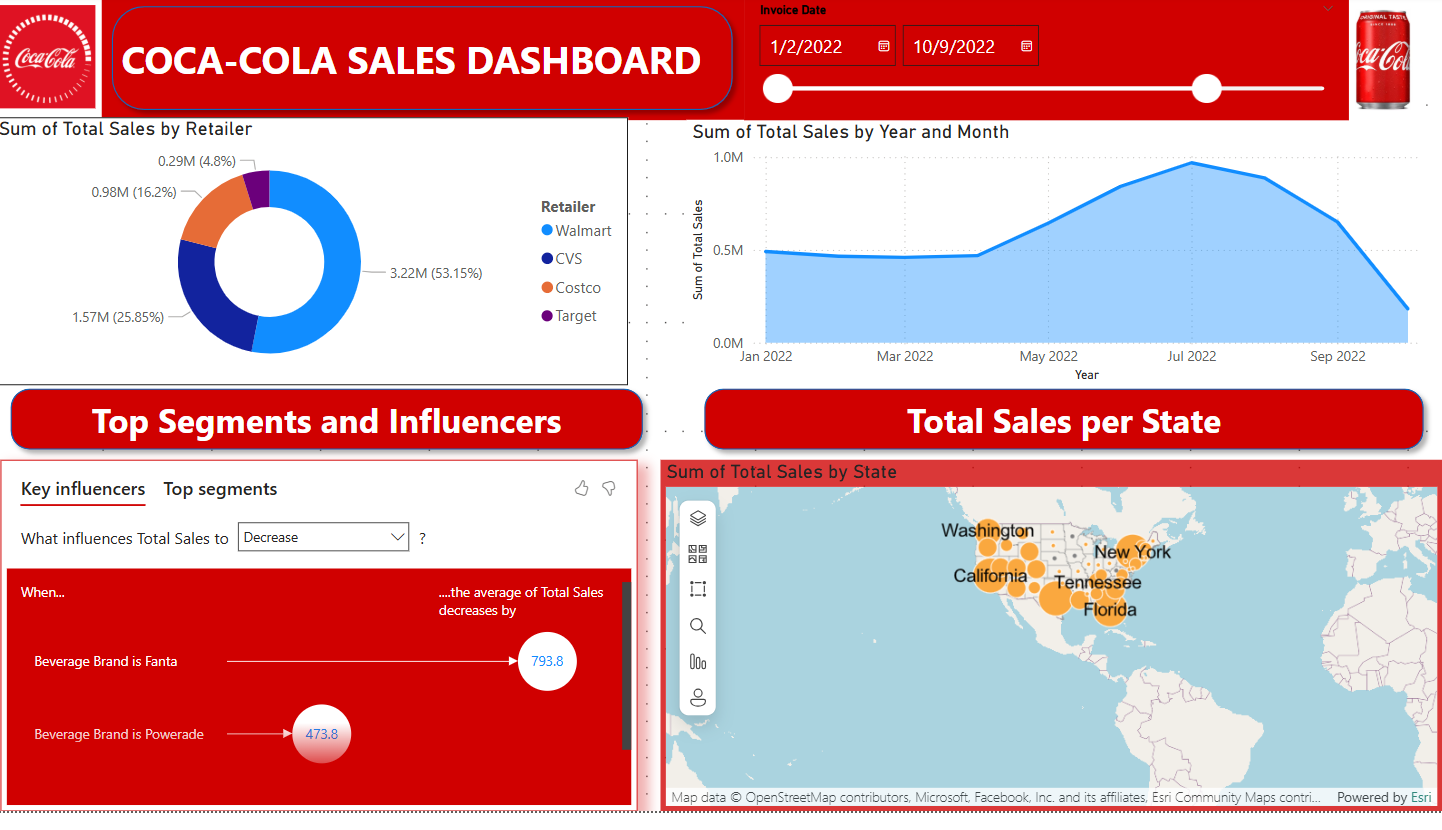

Layout of this report page (visuals, bound fields, positions):
{"tool":"powerbi","page":{"name":"Page 1","canvas":[1280,720],"ordinal":0},"visuals":[{"type":"shape","box":[1.2,0,1266.7,109.7],"z":0},{"type":"shape","box":[0,360.3,576,72.3],"z":1000},{"type":"shape","box":[613.4,360.3,653.3,72.3],"z":2000},{"type":"keyDriversVisual","fields":{"Target":["Data.Total Sales"],"ExplainBy":["Data.Beverage Brand"]},"box":[13.7,432.6,562.3,288],"z":3000},{"type":"esriVisual","fields":{"Location":["Data.State"],"Size":["Sum(Data.Total Sales)"]},"box":[589.7,432.6,690.7,288],"z":4000},{"type":"stackedAreaChart","fields":{"Y":["Sum(Data.Total Sales)"],"Category":["Data.Invoice Date.Variation.Date Hierarchy.Year","Data.Invoice Date.Variation.Date Hierarchy.Month"]},"box":[600.9,123.4,667,236.9],"z":5000},{"type":"donutChart","fields":{"Category":["Data.Retailer"],"Y":["Sum(Data.Total Sales)"]},"box":[15,123.4,561,236.9],"z":6000},{"type":"slicer","fields":{"Values":["Data.Invoice Date"]},"box":[529.9,10,684.5,89.8],"z":6001}]}

Visuals, with their boxes in screenshot pixels (x1, y1, x2, y2), scaled from the page's 1280x720 canvas onto the 1442x830 screenshot:
shape: bbox(1, 0, 1428, 126)
shape: bbox(0, 415, 649, 499)
shape: bbox(691, 415, 1427, 499)
keyDriversVisual - Data.Total Sales x Data.Beverage Brand: bbox(15, 499, 649, 829)
esriVisual - Data.State x Sum(Data.Total Sales): bbox(664, 499, 1441, 829)
stackedAreaChart - Sum(Data.Total Sales) x Data.Invoice Date.Variation.Date Hierarchy.Year: bbox(677, 142, 1428, 415)
donutChart - Data.Retailer x Sum(Data.Total Sales): bbox(17, 142, 649, 415)
slicer - Data.Invoice Date: bbox(597, 12, 1368, 115)
